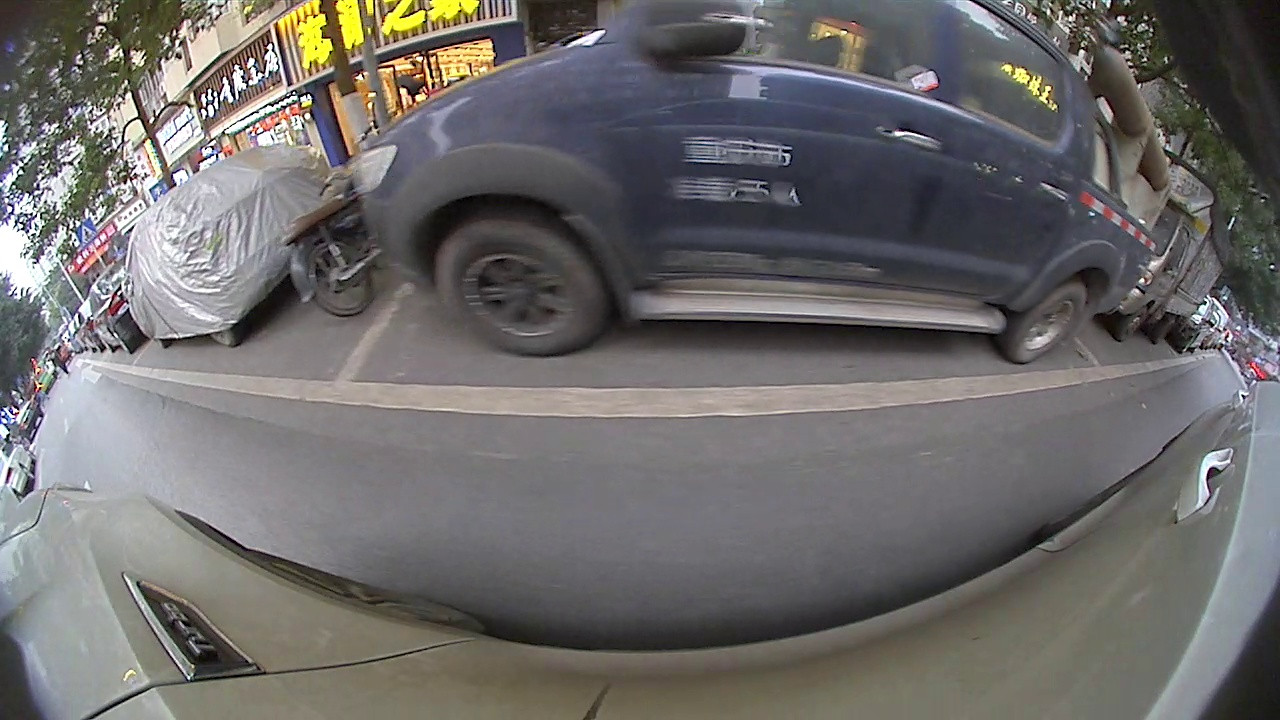car: (128, 30, 764, 388), (917, 163, 1153, 368), (71, 193, 166, 335), (1133, 276, 1186, 366)
front: (478, 256, 649, 384), (110, 297, 144, 339), (1106, 335, 1142, 368)
person: (23, 281, 77, 375), (755, 28, 788, 137), (695, 18, 726, 120), (516, 6, 544, 76)
rear: (158, 292, 228, 362), (1033, 316, 1095, 366)
